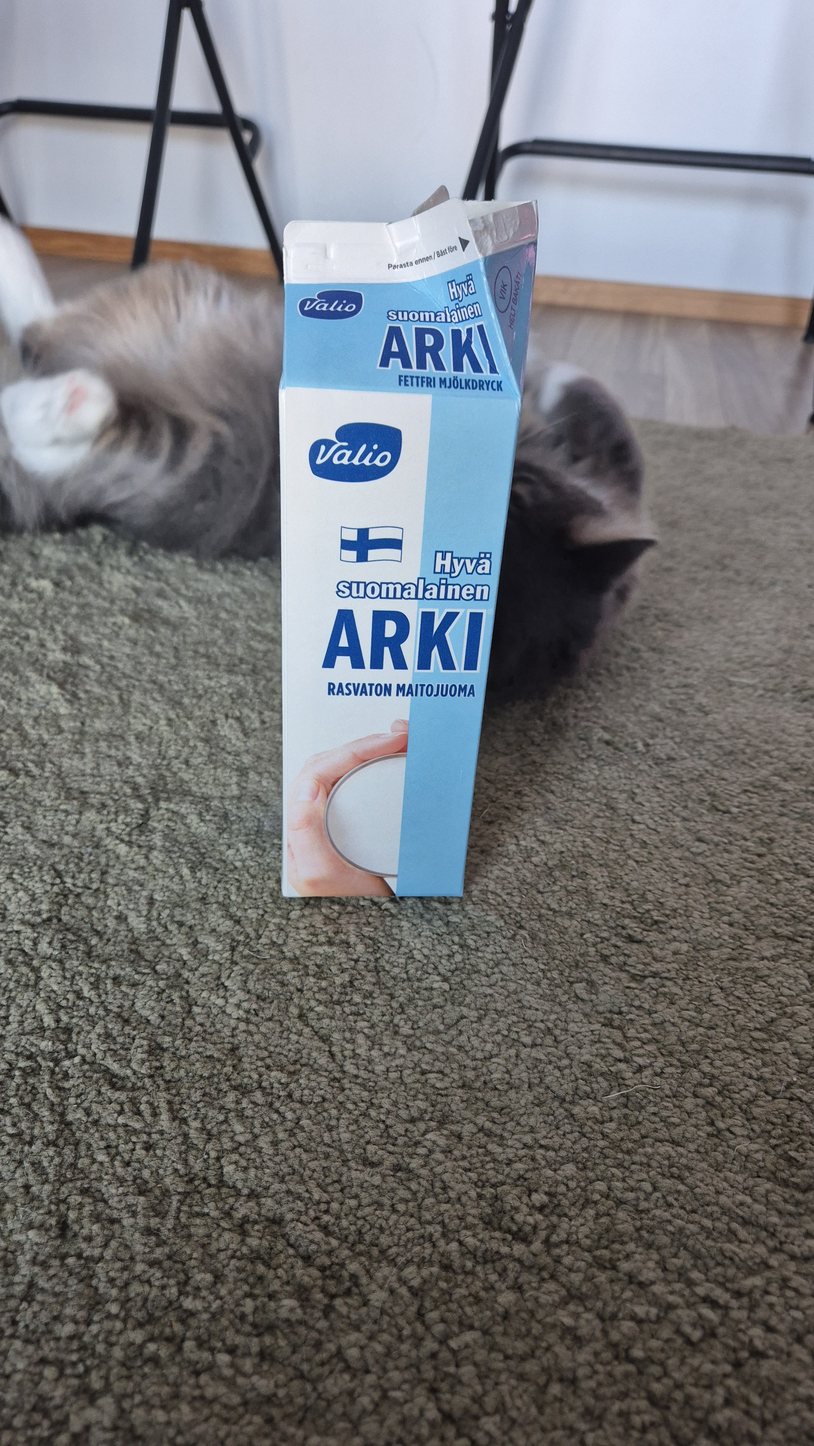Dryckeskartong: (278, 187, 537, 897)
